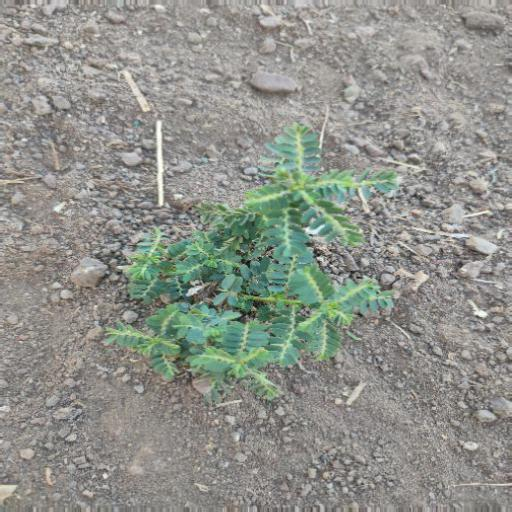weed: (118, 133, 400, 394)
